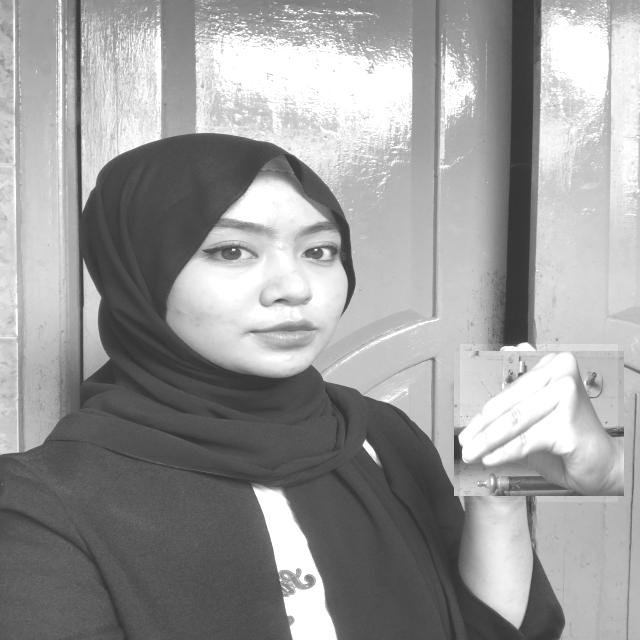kapan: (461, 344, 618, 502)
